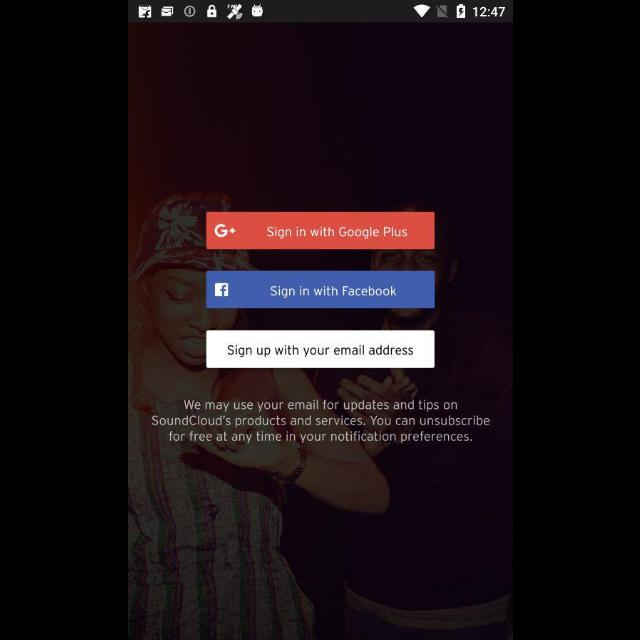backgroundimage: (128, 24, 512, 640)
text: (151, 400, 489, 444)
textbutton: (204, 212, 433, 250), (206, 331, 434, 369), (206, 272, 434, 308)
uppertaskbar: (128, 1, 512, 23)
